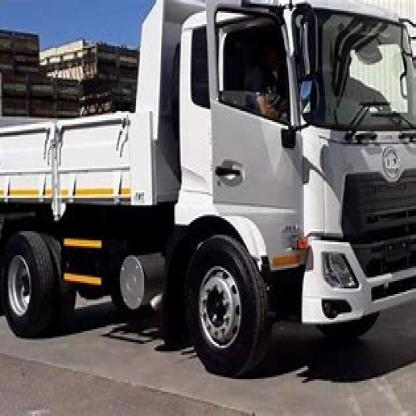dump_truck: (1, 2, 415, 379)
